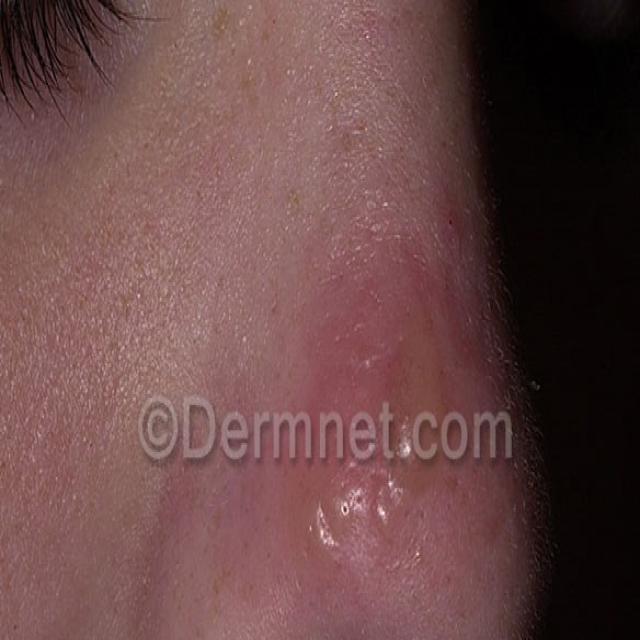Viral Infections: (285, 257, 492, 622)
